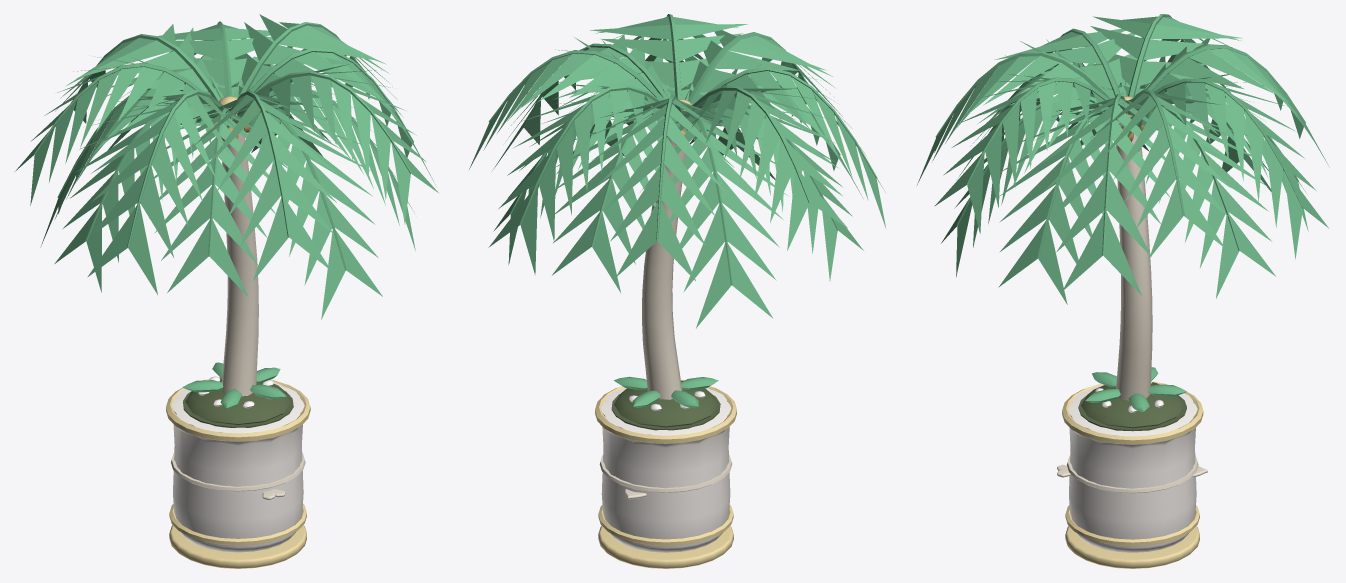
The model's file is palm_planter_lux.glb.
3 views of the same model, side by side, from view 1: azimuth 30°, elevation 25°; view 2: azimuth 150°, elevation 25°; view 3: azimuth 270°, elevation 25° (orthographic). The views are drawn at different scales.
Visible parts, largest first — view 1: palm_planter_lux; view 2: palm_planter_lux; view 3: palm_planter_lux.
Part boxes in pixels (left/top/right/bottom): palm_planter_lux: left=15, top=14, right=438, bottom=568; palm_planter_lux: left=469, top=14, right=885, bottom=568; palm_planter_lux: left=917, top=14, right=1329, bottom=568.
Bounding box in the file's own units: 3.23 × 4.09 × 3.21.
